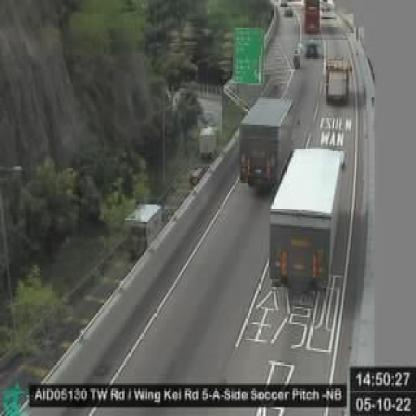Car: (306, 38, 321, 59)
Truck: (268, 146, 344, 294), (238, 95, 294, 194), (322, 57, 351, 104)
